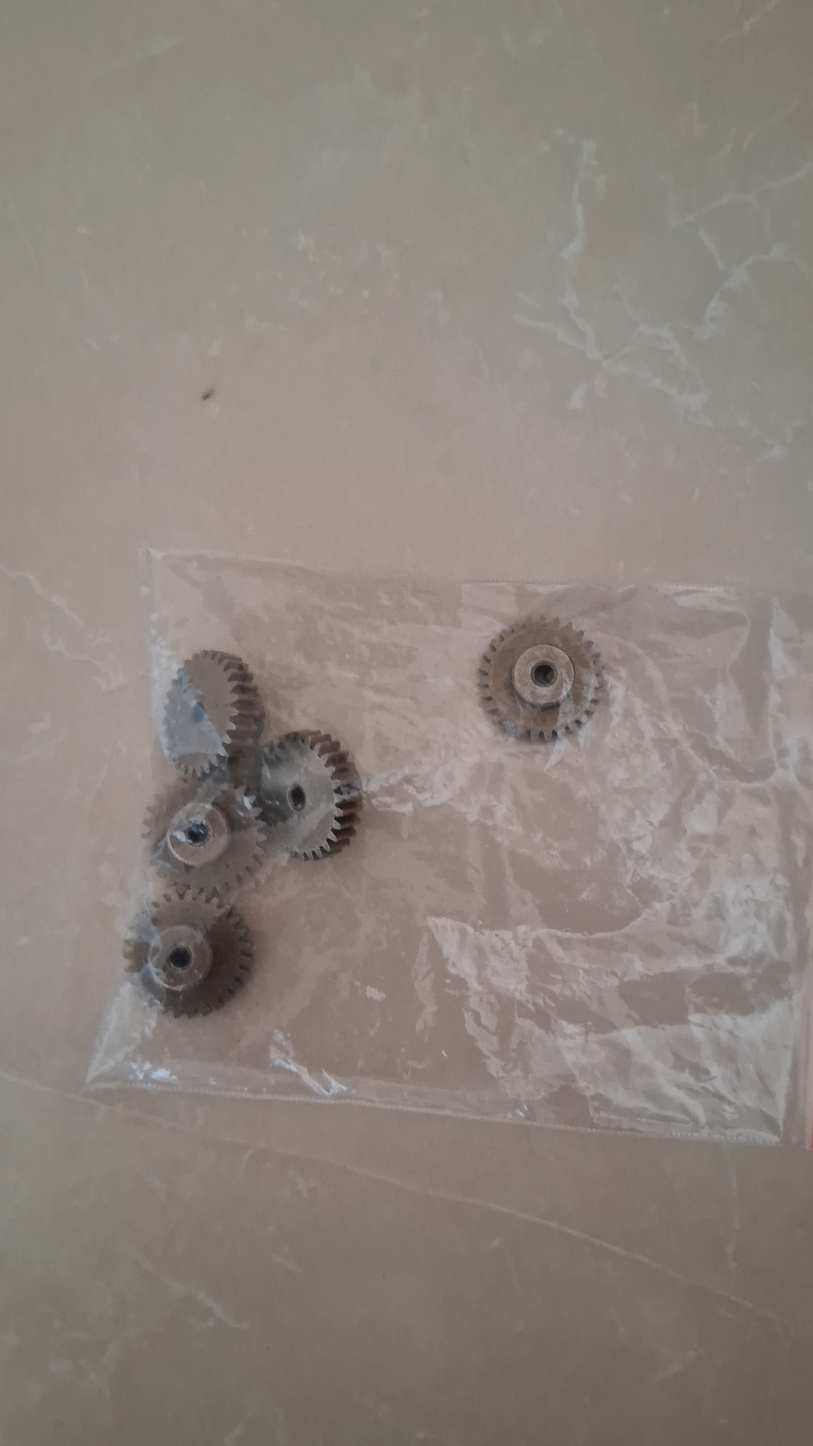spur gear: (124, 891, 253, 1016), (144, 775, 268, 903), (480, 616, 603, 740), (247, 732, 359, 859), (164, 650, 262, 776)
